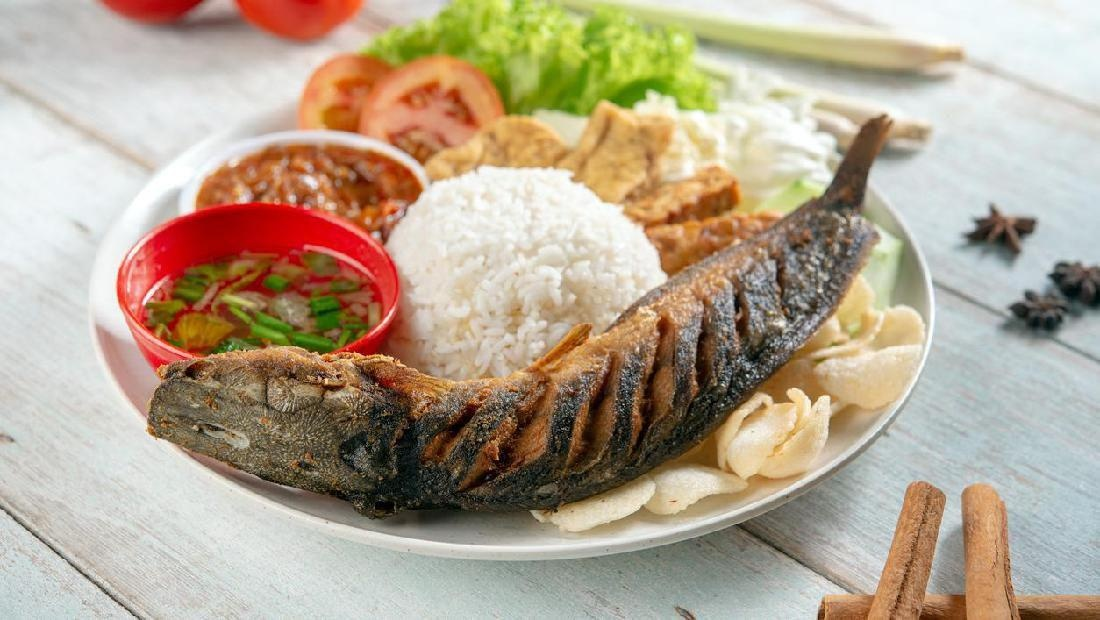pecel_lele: (114, 325, 702, 519)
